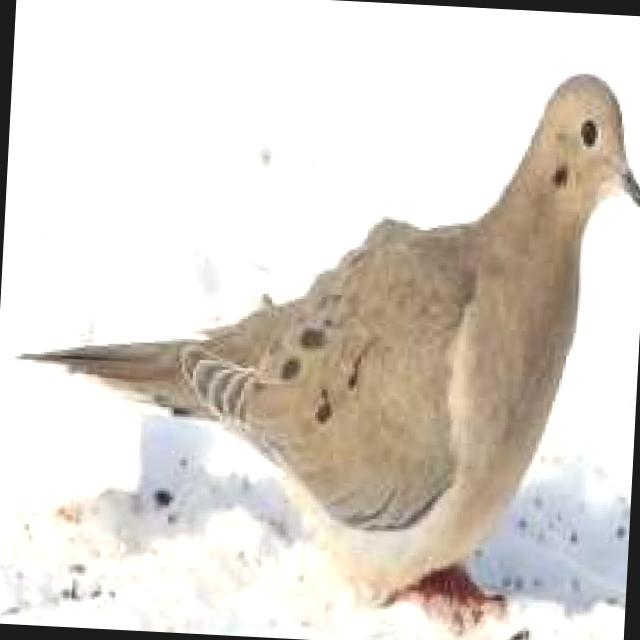bird: (0, 28, 640, 631)
